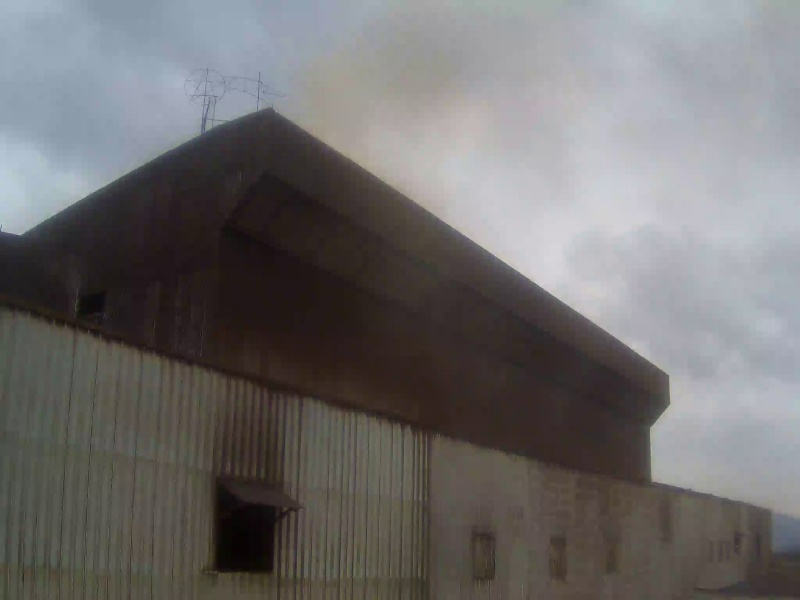ruim: (296, 3, 509, 287)
